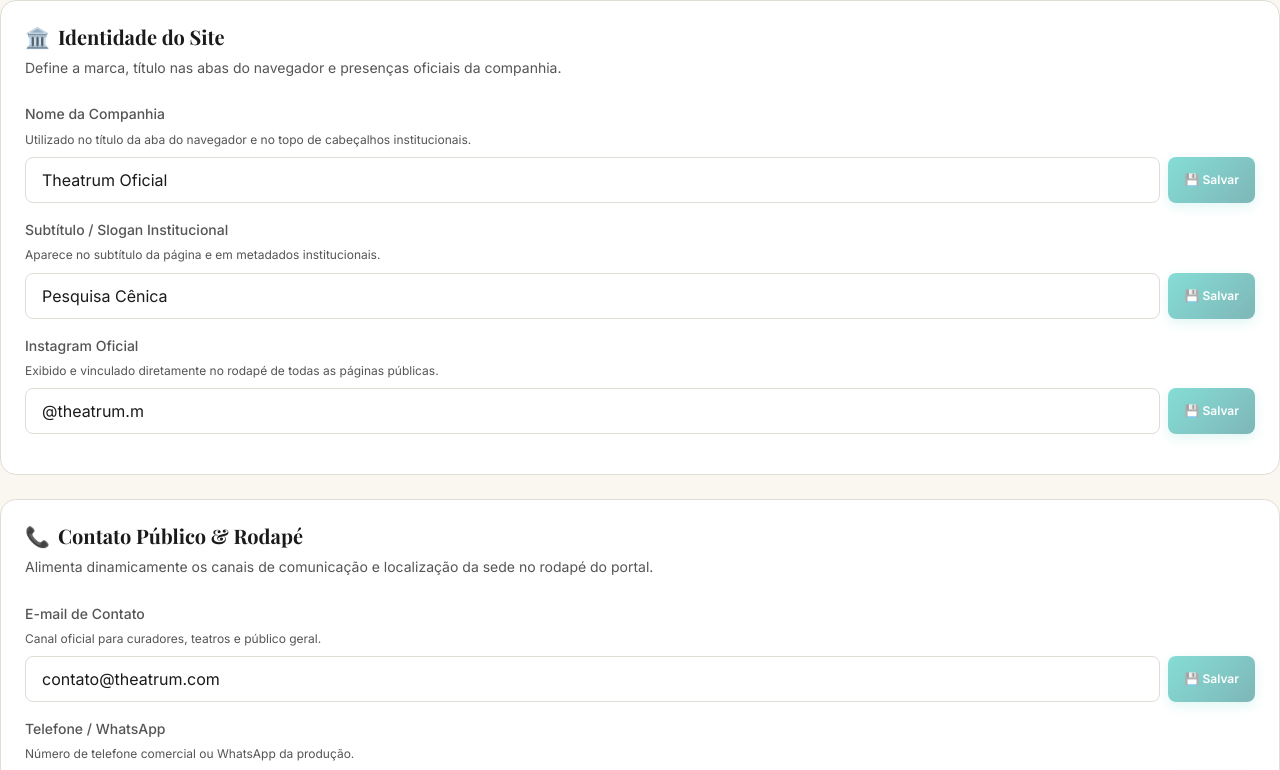
Test: AbaConfig Component › deve validar formato de email antes de salvar contato_email
Clear the field showing "contato@theatrum.com" below "E-mail de Contato" at (593, 679), box [25, 656, 1160, 702]
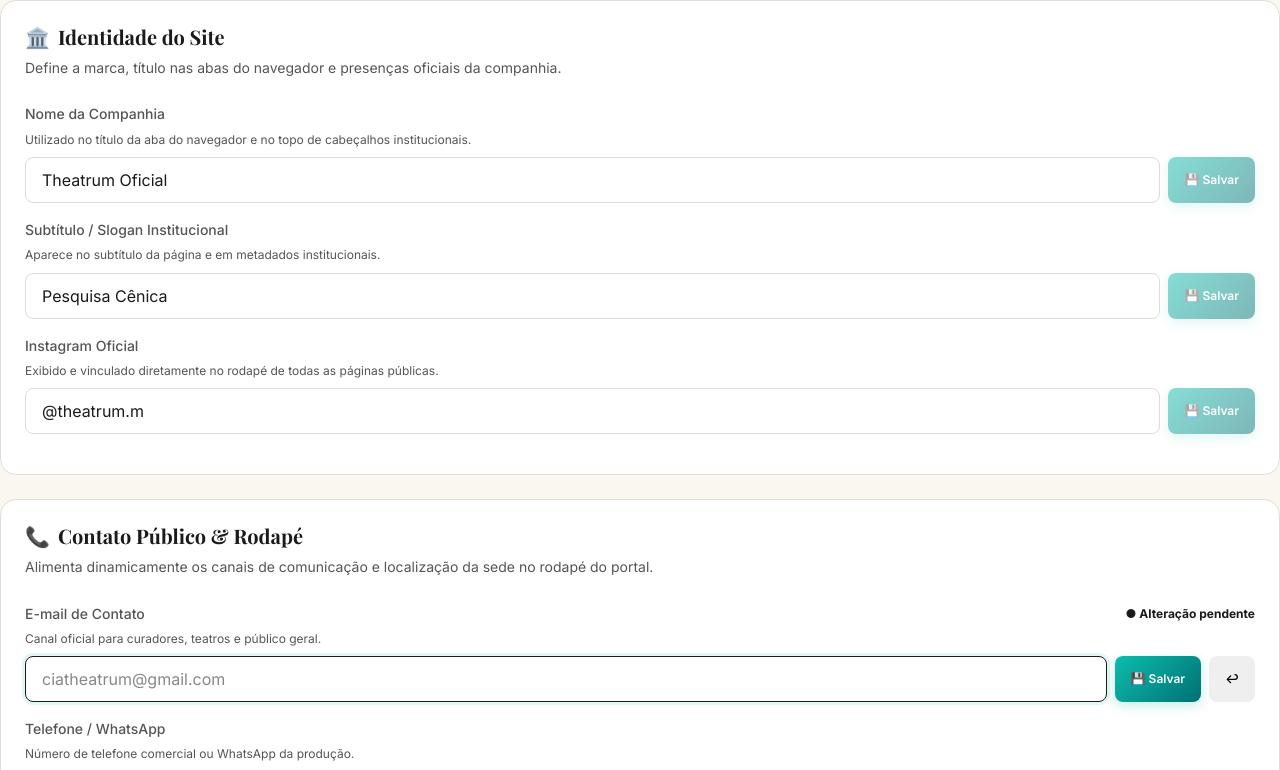
Type "email-invalido-sem-arroba" into the field showing "contato@theatrum.com" at (566, 679), box [25, 656, 1107, 702]
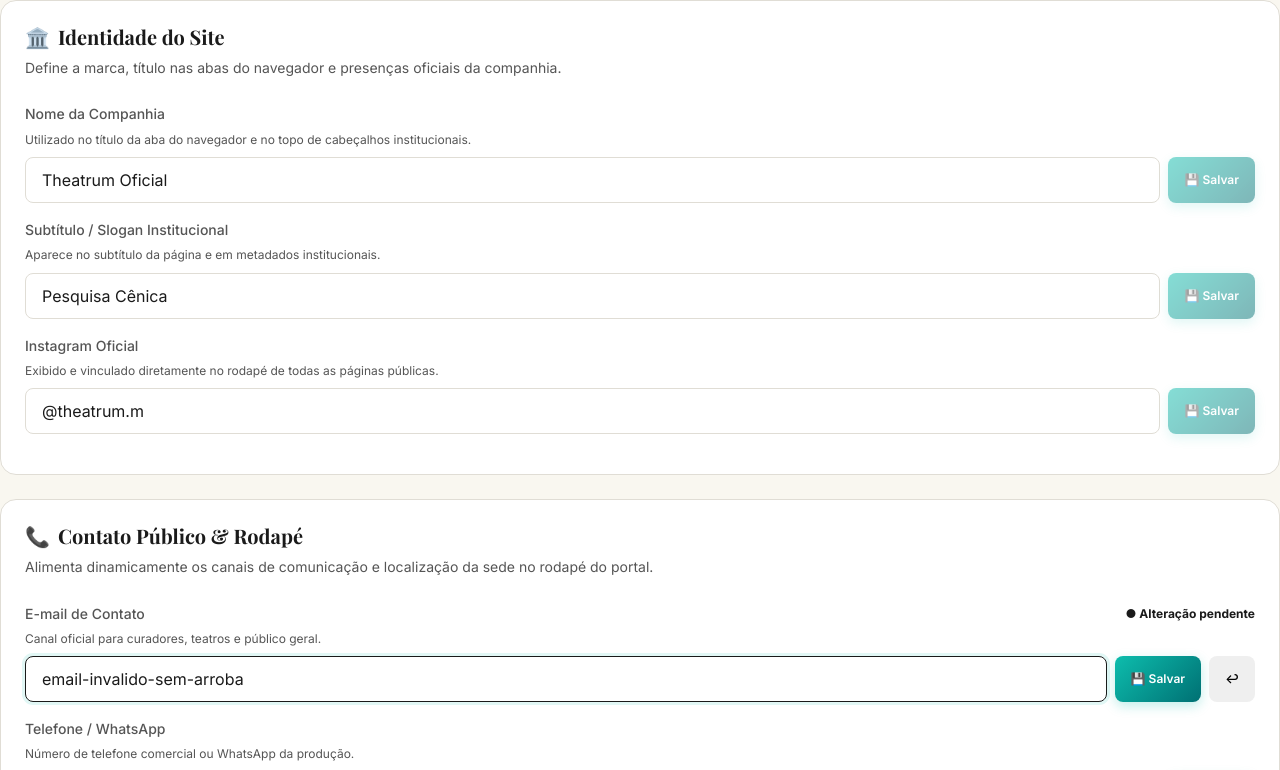
Click the button with aria-label "Salvar E-mail de Contato" at (1158, 679), box [1115, 656, 1201, 702]
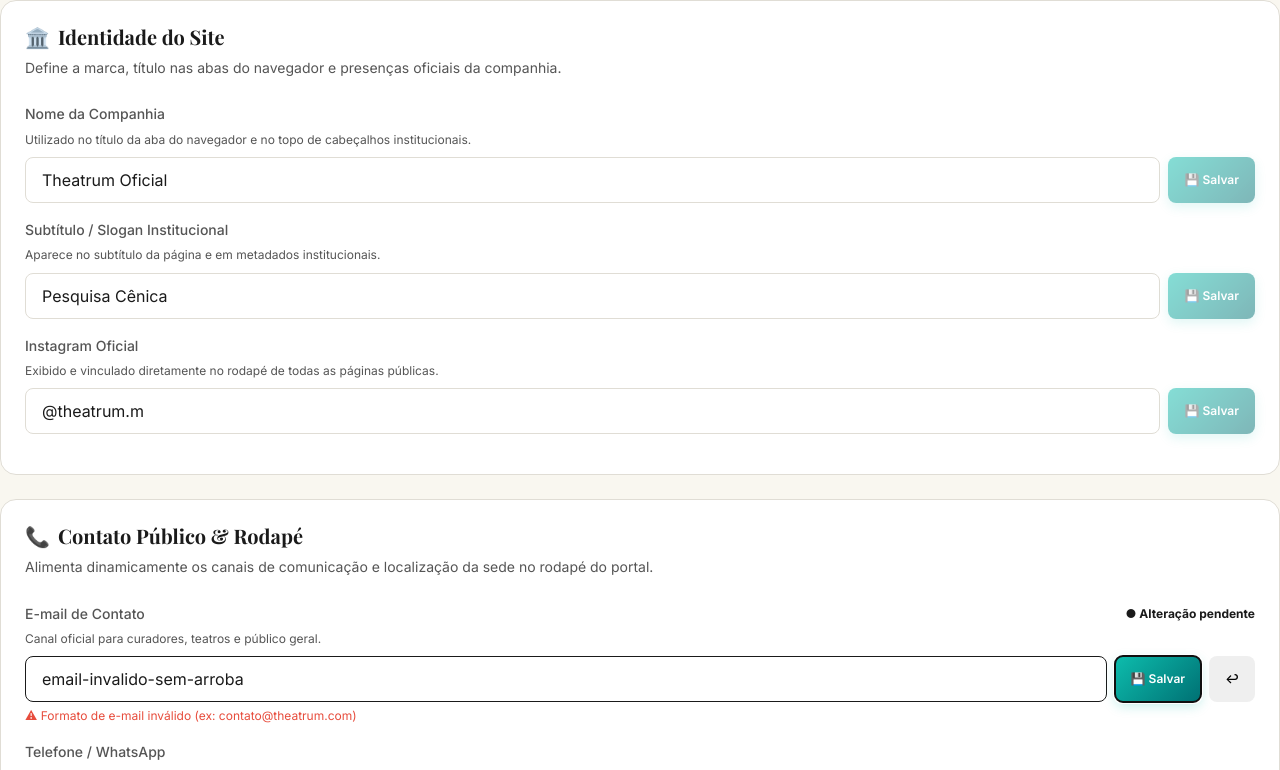
Result: the text "⚠ Formato de e-mail inválido (ex: contato@theatrum.com)" is shown at [25, 708, 357, 723]
